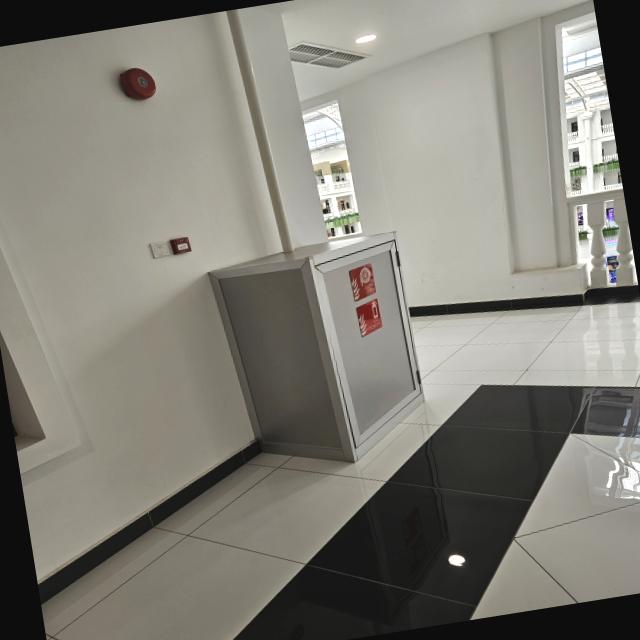footpath: (27, 418, 640, 640), (421, 283, 640, 620)
obstacle: (205, 228, 434, 481)
